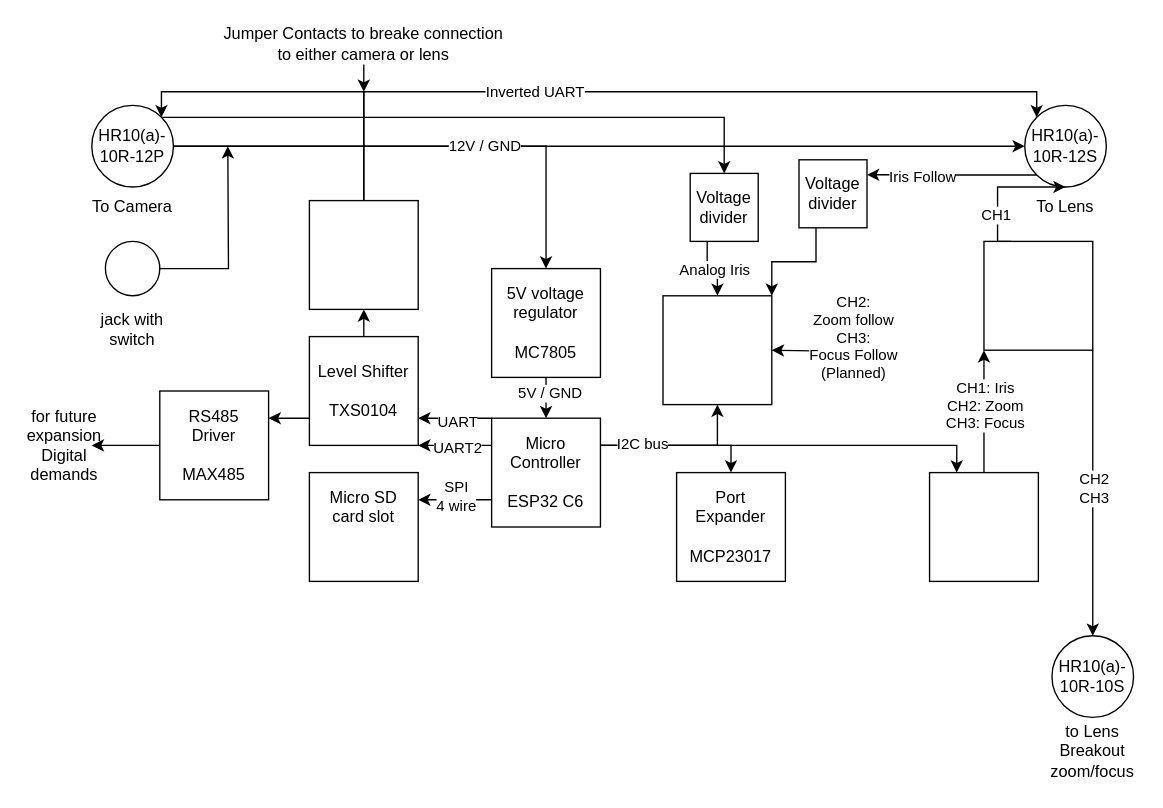
The diagram is 1163 pixels wide and 808 high, and some of its shapes have lost their labels. The box of each missing label's shape, as (x1, y1, x2, y2) in pixels:
12v in: (104, 240, 160, 296)
4ch 16bit ADC ADS1115: (662, 294, 772, 405)
4ch 16bit DAC AD5665R: (928, 471, 1038, 581)
Logic Inverter SN74LS04: (308, 199, 418, 309)
OpAmp Levelshifter LM324: (983, 240, 1093, 350)
